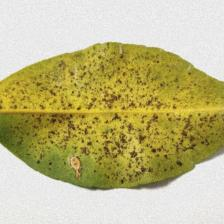canker: (25, 72, 188, 175)
